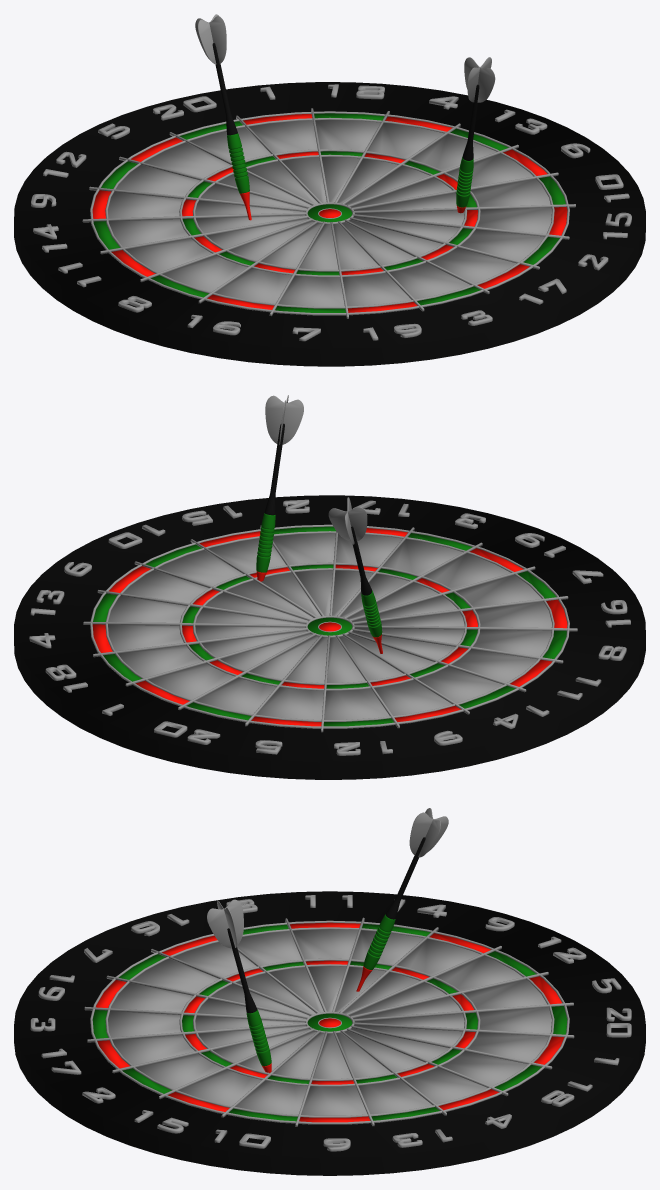
The model's file is darts.FBX.
3 views of the same model, one above another, from view 1: azimuth 30°, elevation 25°; view 2: azimuth 150°, elevation 25°; view 3: azimuth 270°, elevation 25° (orthographic).
Parts seen in each view (by area): view 1: Selection_2_Cylinder; view 2: Selection_2_Cylinder; view 3: Selection_2_Cylinder.
Boxes of the visible parts, x1,y1,x2,y2 form: Selection_2_Cylinder: (14,14,645,366); Selection_2_Cylinder: (14,395,645,779); Selection_2_Cylinder: (14,808,645,1175).
Bounding box in the file's own units: 9.9 × 3.5 × 9.9.
